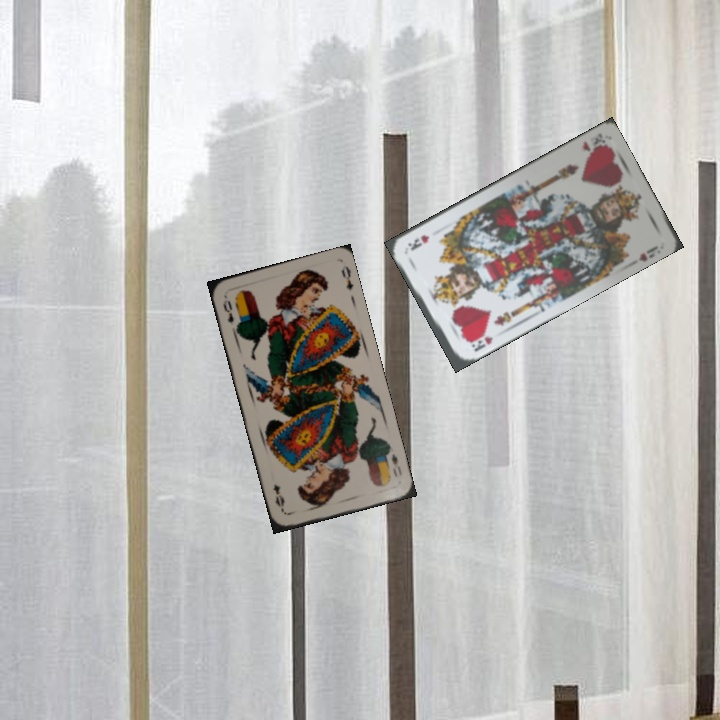EO: (219, 292, 241, 331), (387, 449, 404, 480)
HK: (578, 129, 608, 156), (467, 332, 495, 354)
